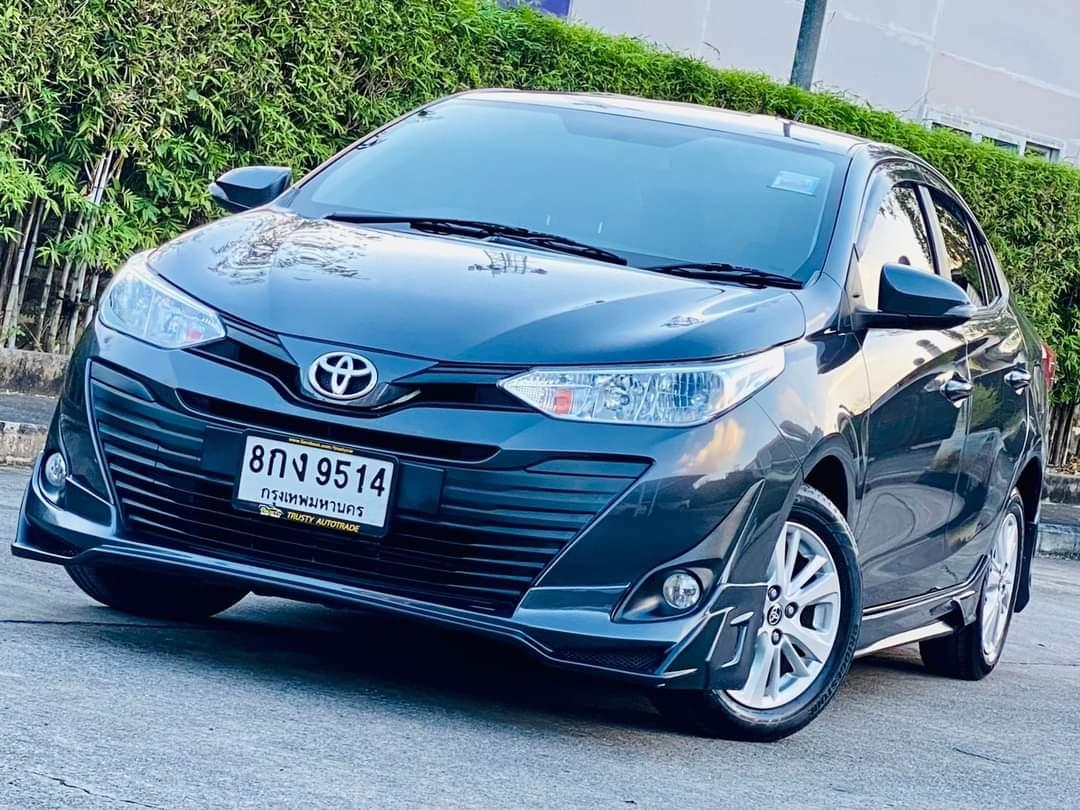license-plate: (226, 423, 407, 537)
